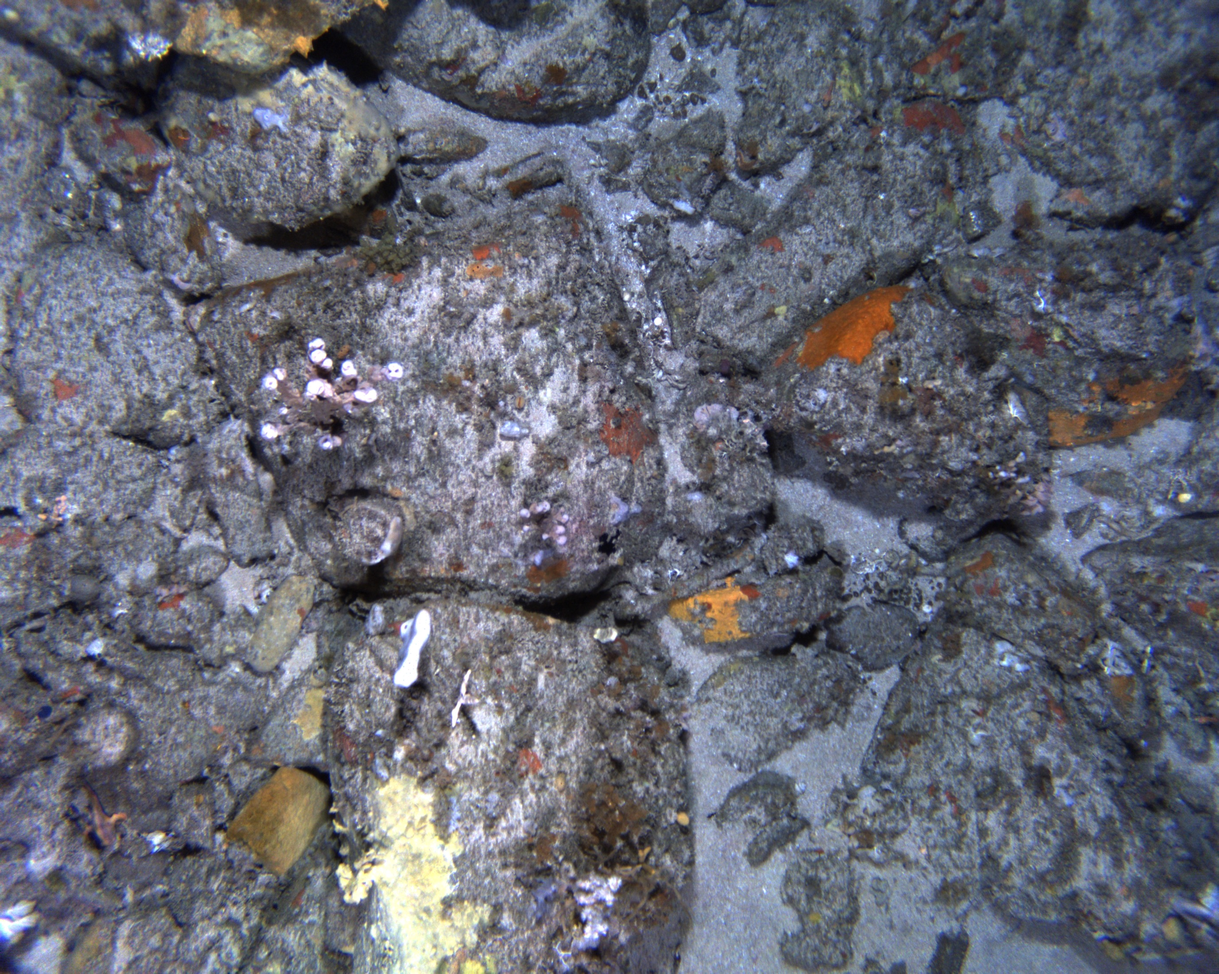Brachionichthyidae: (75, 778, 129, 851)
